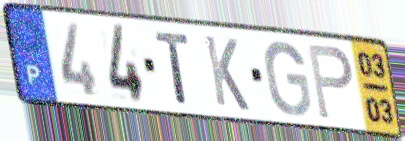4: (107, 22, 147, 106), (57, 21, 100, 98)
G: (262, 39, 314, 119)
K: (202, 32, 252, 114)
P: (305, 41, 355, 122)
T: (153, 29, 193, 108)
